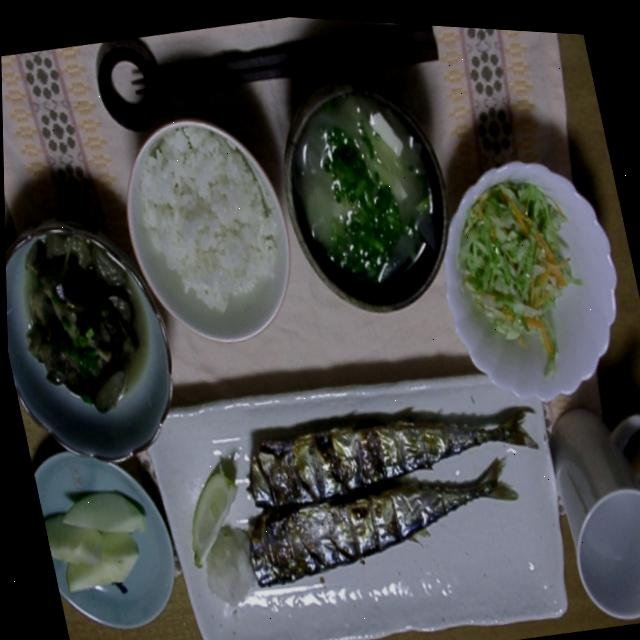熟制海鲜: (209, 360, 558, 627)
